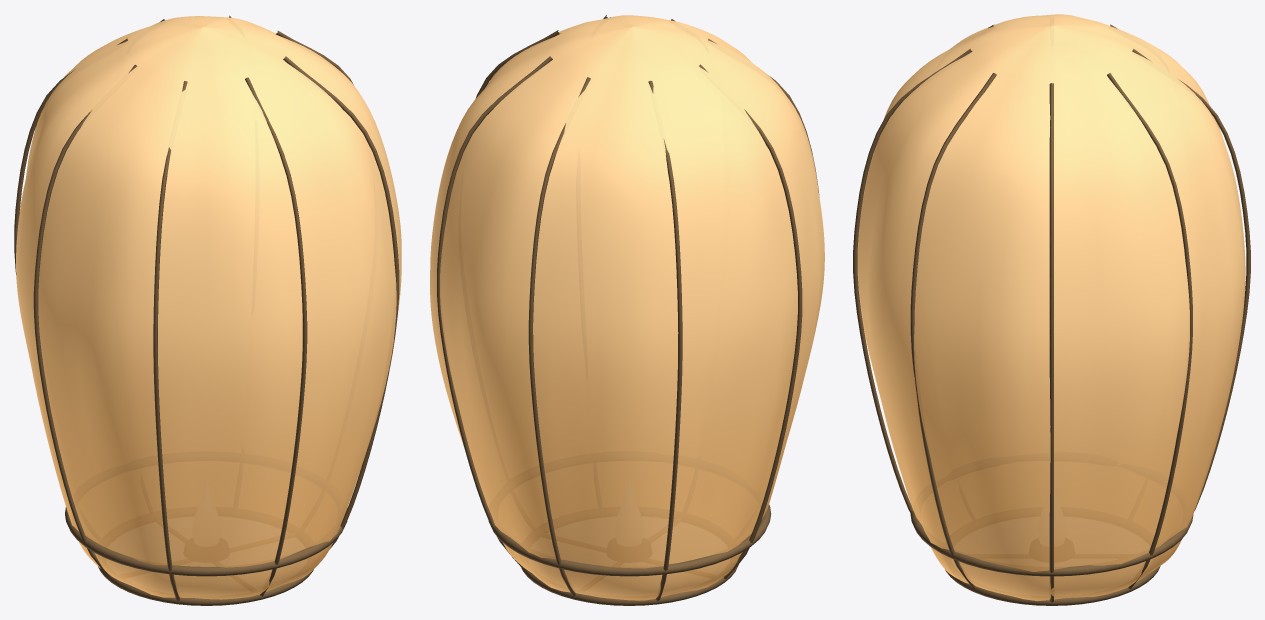
File: paper-lantern.glb
The picture shows the model from 3 angles, left to right: view 1: azimuth 30°, elevation 25°; view 2: azimuth 150°, elevation 25°; view 3: azimuth 270°, elevation 25°; orthographic projection.
Parts seen in each view (by area): view 1: Continuous folded translucent paper shell, Eight fine bamboo ribs, open double rim and crossed brace; view 2: Continuous folded translucent paper shell, Eight fine bamboo ribs, open double rim and crossed brace; view 3: Continuous folded translucent paper shell, Eight fine bamboo ribs, open double rim and crossed brace.
Part boxes in pixels (<box>): Continuous folded translucent paper shell: <box>16,16,401,599</box>; Eight fine bamboo ribs, open double rim and crossed brace: <box>14,15,399,605</box>; Continuous folded translucent paper shell: <box>430,15,824,600</box>; Eight fine bamboo ribs, open double rim and crossed brace: <box>437,15,819,605</box>; Continuous folded translucent paper shell: <box>857,14,1245,601</box>; Eight fine bamboo ribs, open double rim and crossed brace: <box>853,24,1250,605</box>.
Size of the model in its own units: 1.26 by 1.87 by 1.26.
